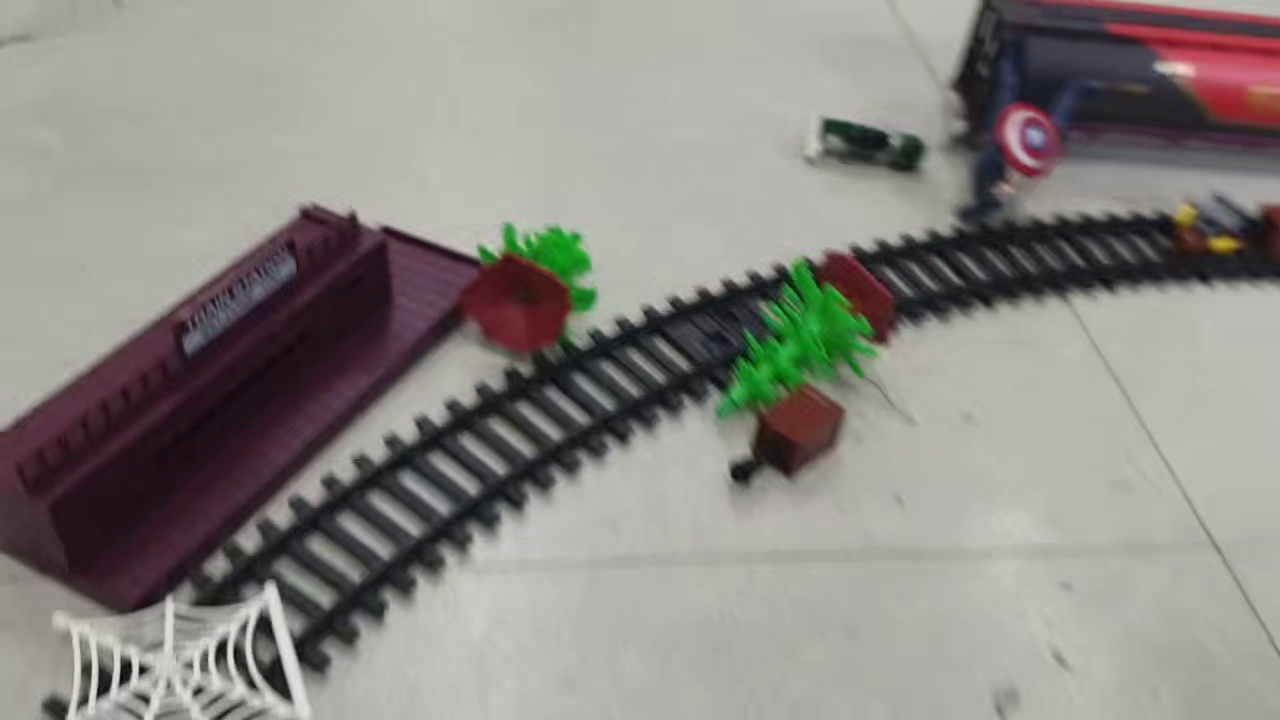box: (729, 380, 848, 487)
people: (950, 44, 1092, 236), (1170, 184, 1280, 263), (803, 111, 928, 177)
tree: (712, 248, 903, 426), (462, 221, 597, 357)
web: (51, 579, 315, 720)
